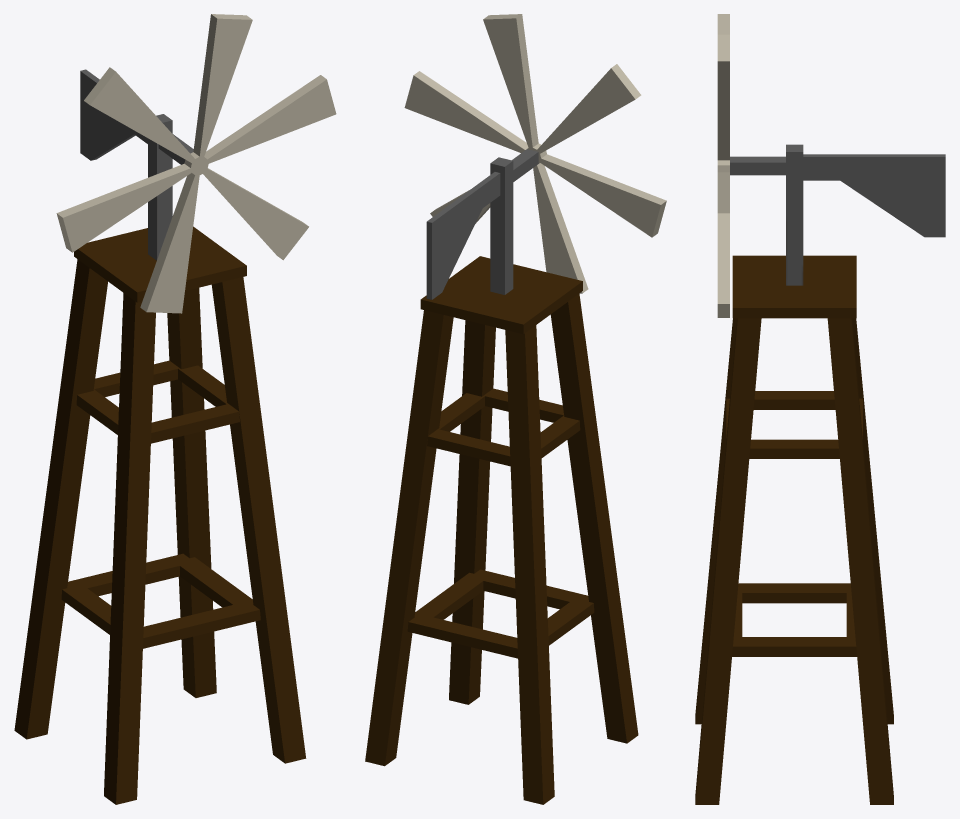
The model's file is Windmill.glb.
3 views of the same model, side by side, from view 1: azimuth 30°, elevation 25°; view 2: azimuth 150°, elevation 25°; view 3: azimuth 270°, elevation 25° (orthographic). The views are drawn at different scales.
Parts seen in each view (by area): view 1: Windmill; view 2: Windmill; view 3: Windmill.
Boxes of the visible parts, bbox=[...] form: Windmill: bbox=[14, 14, 336, 804]; Windmill: bbox=[365, 14, 666, 804]; Windmill: bbox=[695, 14, 945, 804].
Size of what is drawn, in the model's own units: 2.53 by 6.63 by 2.05.
1 material, 1 textured.
